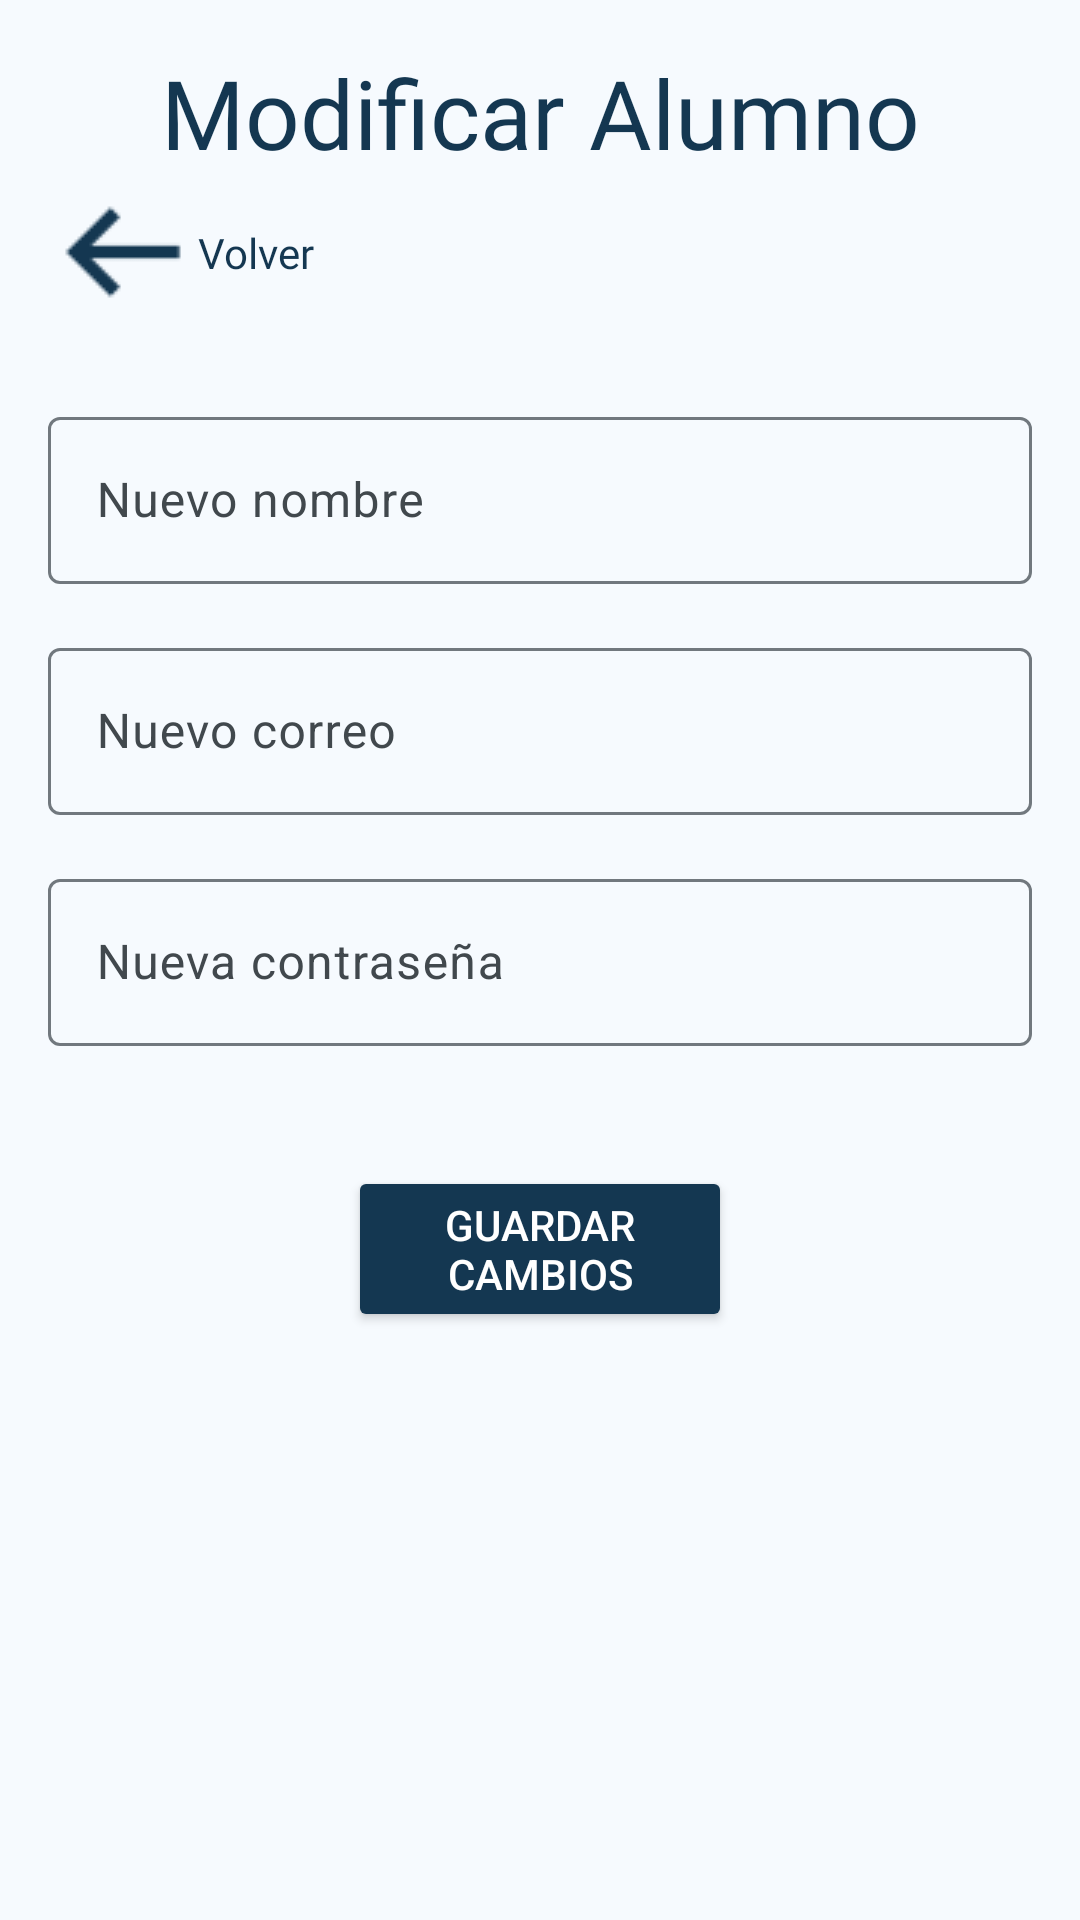

Locate icon controls on the screen. Image size 1080 x 1920, boxes as (x1, y1, x2, y2).
iconarrowleft: (65, 206, 181, 298)
